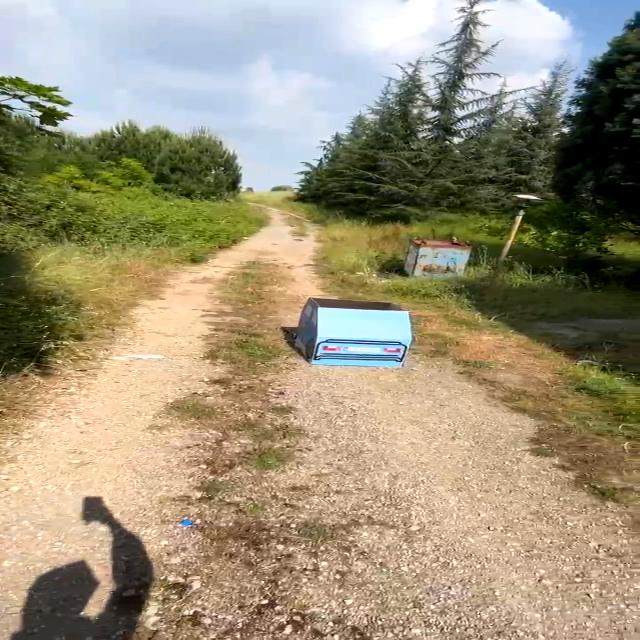blue_car: (270, 288, 428, 383)
